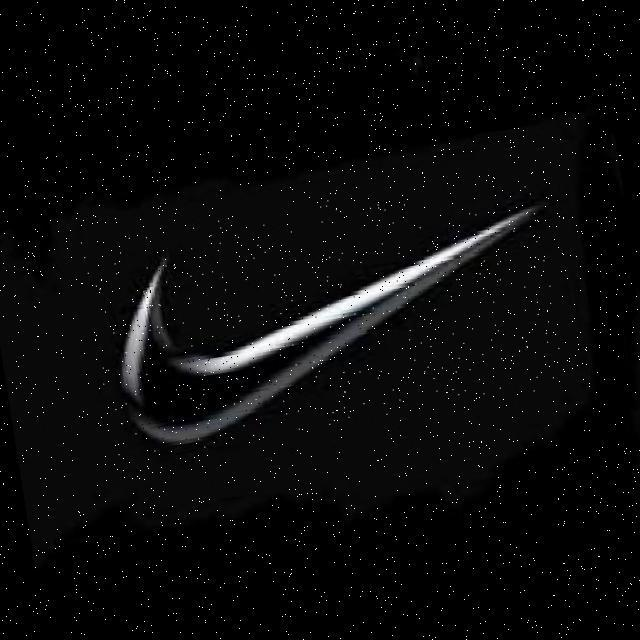Nike: (80, 167, 569, 462)
